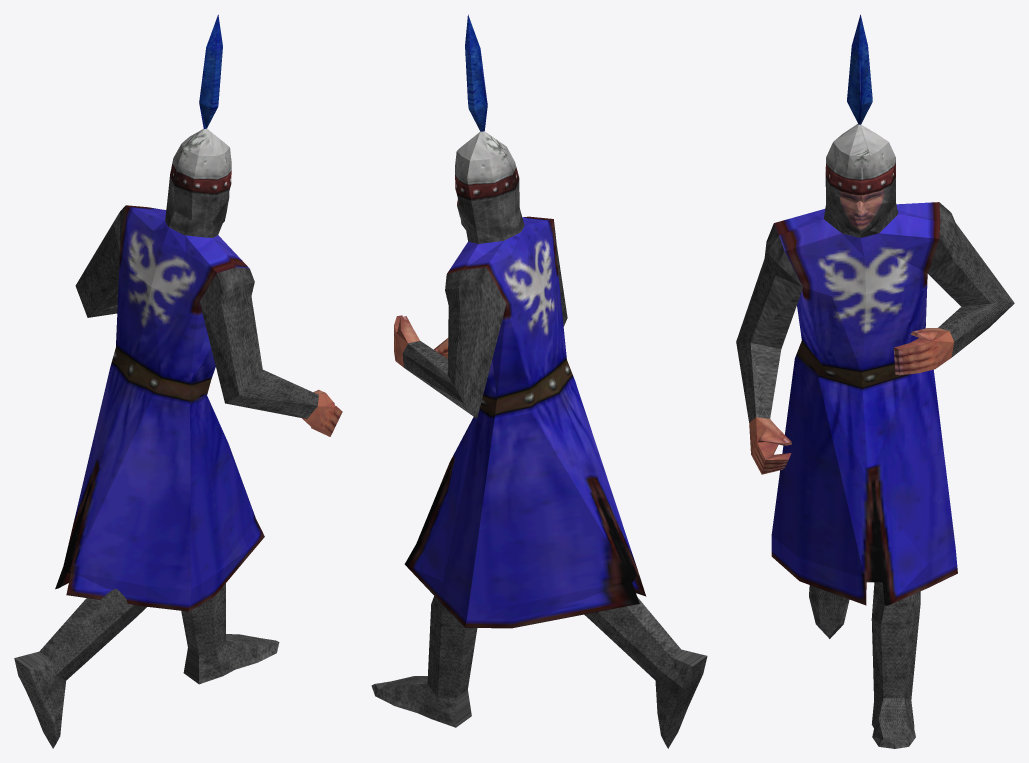
The model's file is guard_run11.obj.
3 renders of one model, left to right at view 1: azimuth 30°, elevation 25°; view 2: azimuth 150°, elevation 25°; view 3: azimuth 270°, elevation 25°, orthographic. The views are drawn at different scales.
Visible parts, largest first — view 1: Object_1; view 2: Object_1; view 3: Object_1.
Part boxes in pixels (bbox=[...]): Object_1: bbox=[14, 14, 342, 748]; Object_1: bbox=[371, 14, 707, 748]; Object_1: bbox=[736, 14, 1014, 748].
Size of the model in its own units: 0.9762 by 2.19 by 0.769.
1 material, 1 textured.
